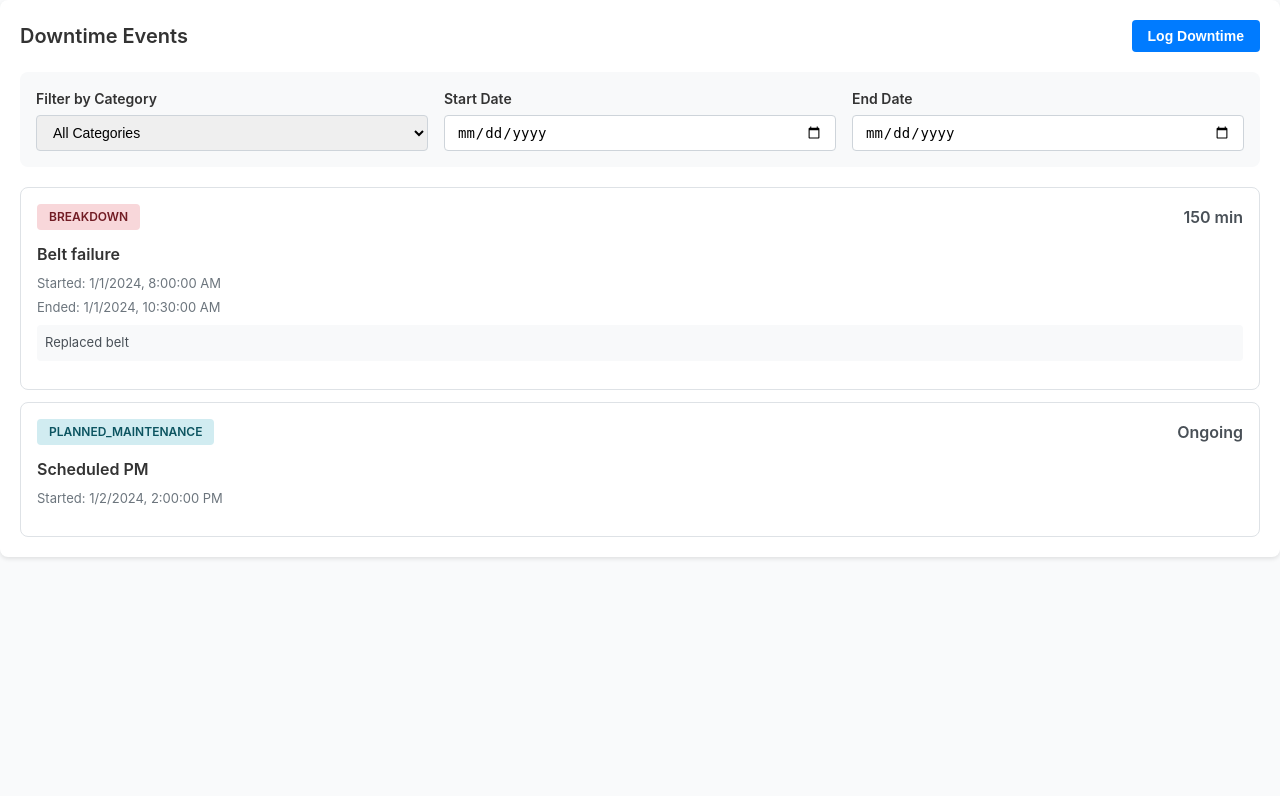
DowntimeTracker › should open downtime form when "Log Downtime" clicked
Click the button "Log Downtime".
click(1196, 36)  # box [1132,20,1260,52]
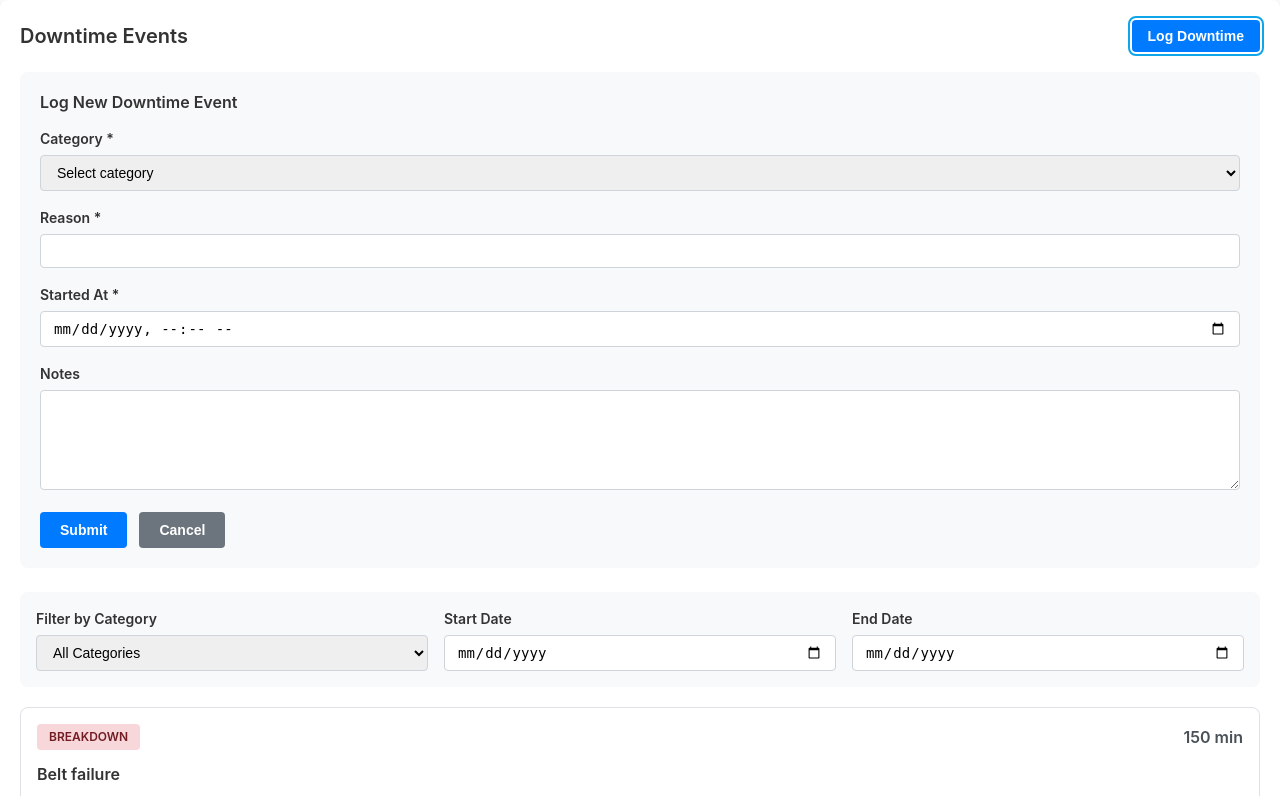
Check: the dropdown labelled "Category *" is shown, box [40,155,1240,191]
Check: the field labelled "Reason *" is shown, box [40,234,1240,268]
Check: the field labelled "Started At *" is shown, box [40,311,1240,347]
